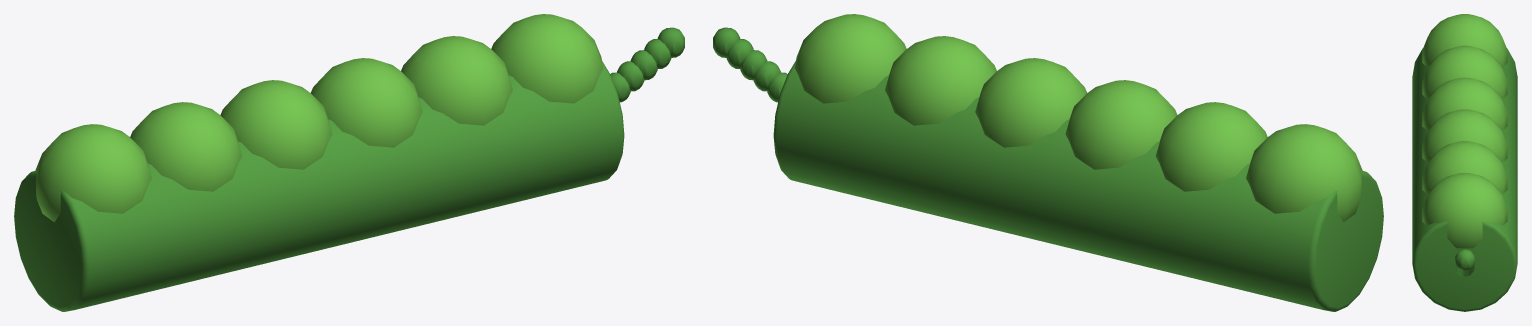
The model's file is pea_green.glb.
3 views of the same model, side by side, from view 1: azimuth 30°, elevation 25°; view 2: azimuth 150°, elevation 25°; view 3: azimuth 270°, elevation 25° (orthographic). The views are drawn at different scales.
Visible parts, largest first — view 1: pea_green; view 2: pea_green; view 3: pea_green.
Boxes of the visible parts, x1,y1,x2,y2 form: pea_green: (14,14,684,311); pea_green: (713,14,1383,311); pea_green: (1412,14,1517,311).
Size of the model in its own units: 1.42 by 0.355 by 0.28.
